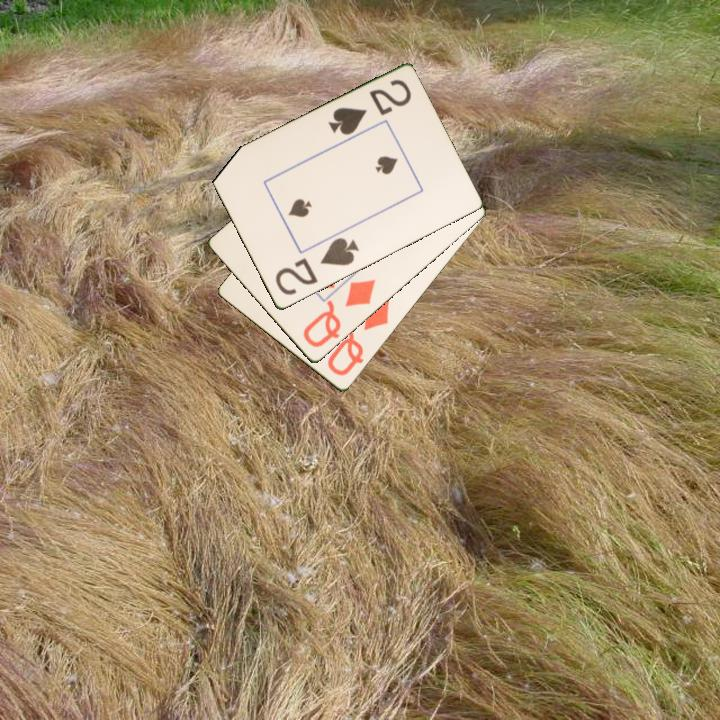2s: (271, 234, 362, 298), (325, 76, 414, 138)
Qd: (299, 276, 378, 351), (324, 295, 392, 379)
